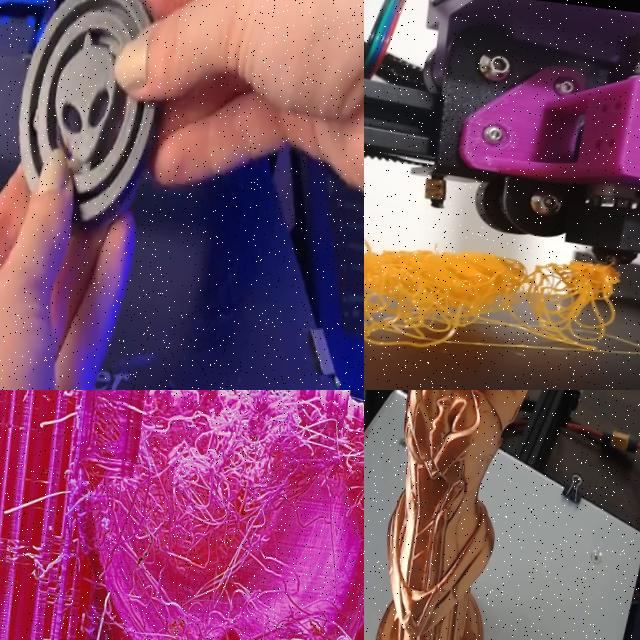spaghetti: (0, 390, 364, 640), (364, 213, 640, 390)
